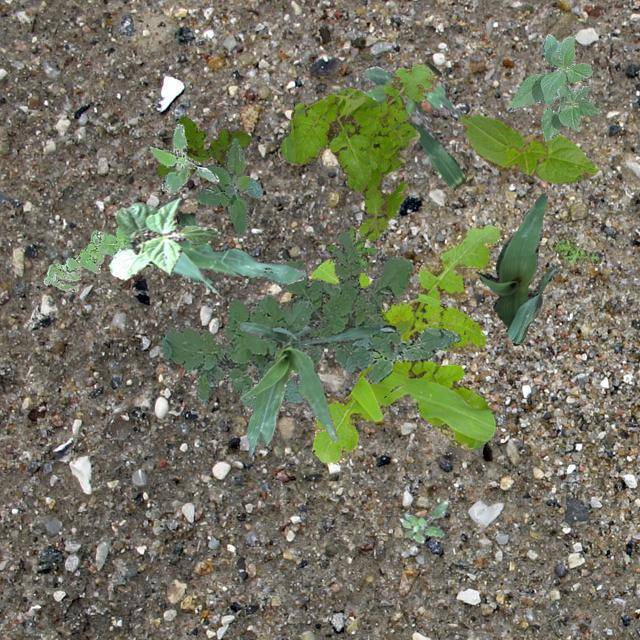crop: (238, 320, 394, 456), (360, 64, 466, 188), (140, 212, 304, 292), (476, 192, 556, 344), (506, 32, 600, 140), (457, 114, 598, 182), (108, 195, 216, 278)
weed: (306, 223, 502, 462), (160, 228, 412, 406), (280, 60, 440, 242), (196, 137, 262, 236), (42, 226, 132, 290), (157, 116, 250, 176), (364, 327, 459, 382), (148, 122, 218, 194), (398, 499, 448, 542), (324, 226, 376, 266), (552, 236, 600, 264)
